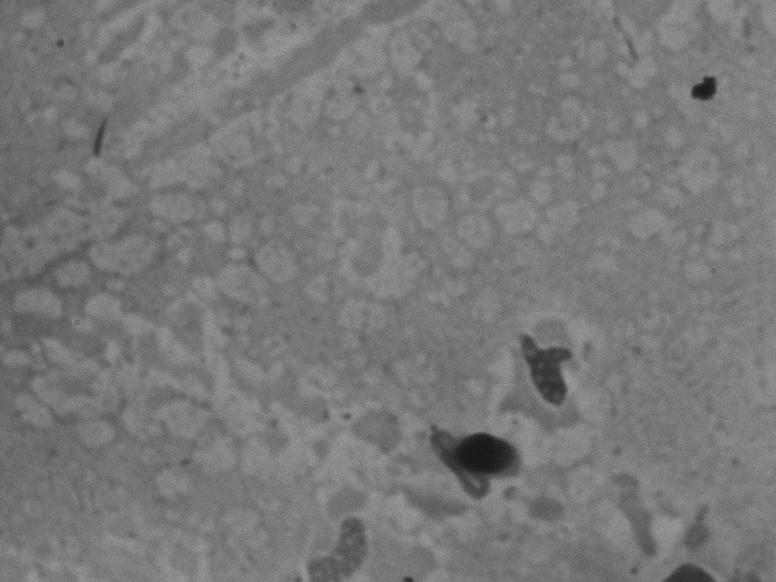Abnormal: (415, 414, 543, 515)
